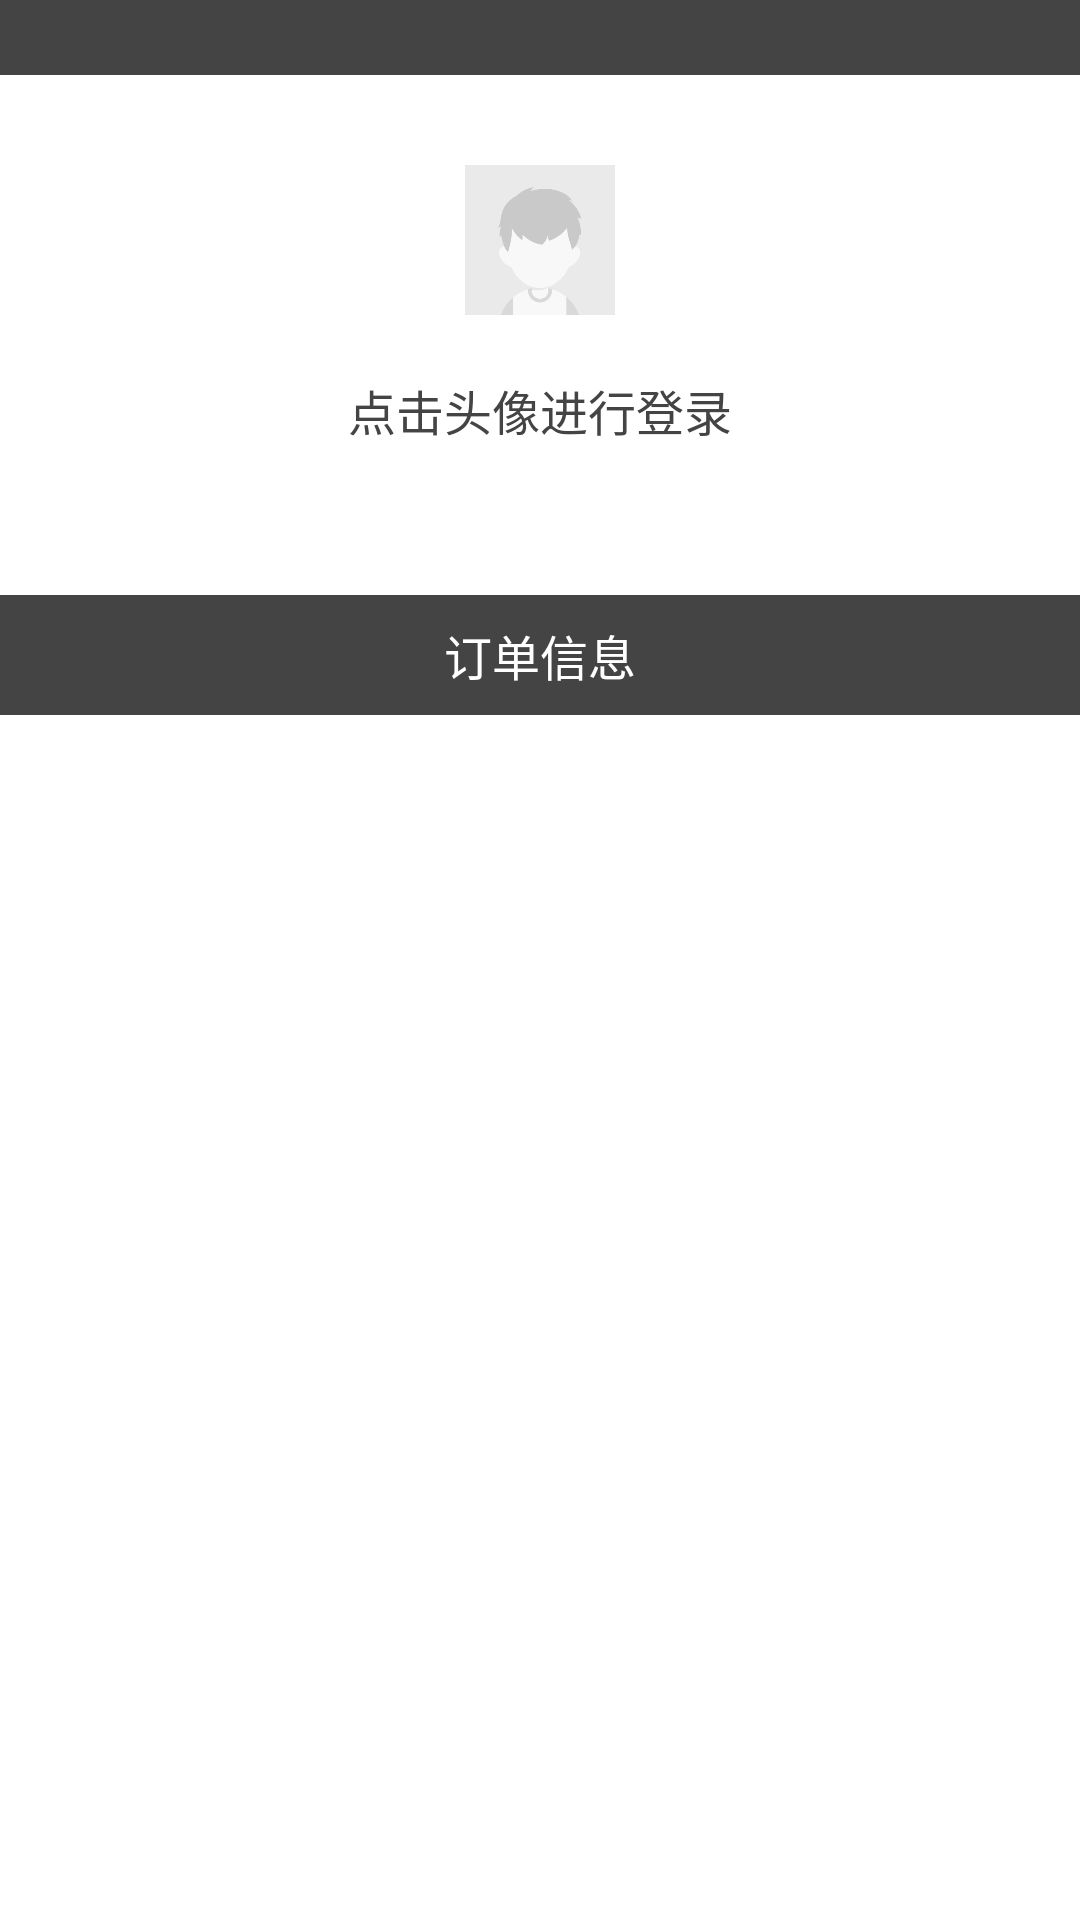

Icon bounding boxes for this 1080*1920 phone screenshot, format (x1, y1, x2, y2):
user face: (465, 165, 615, 315)
